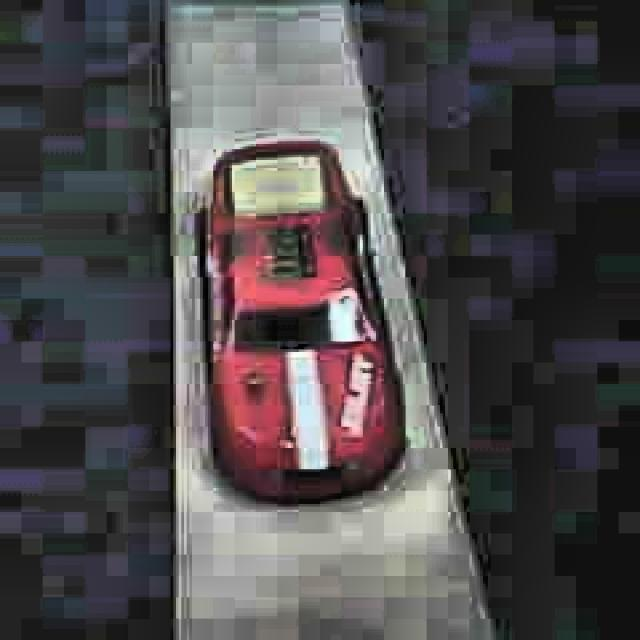car: (193, 135, 410, 510)
